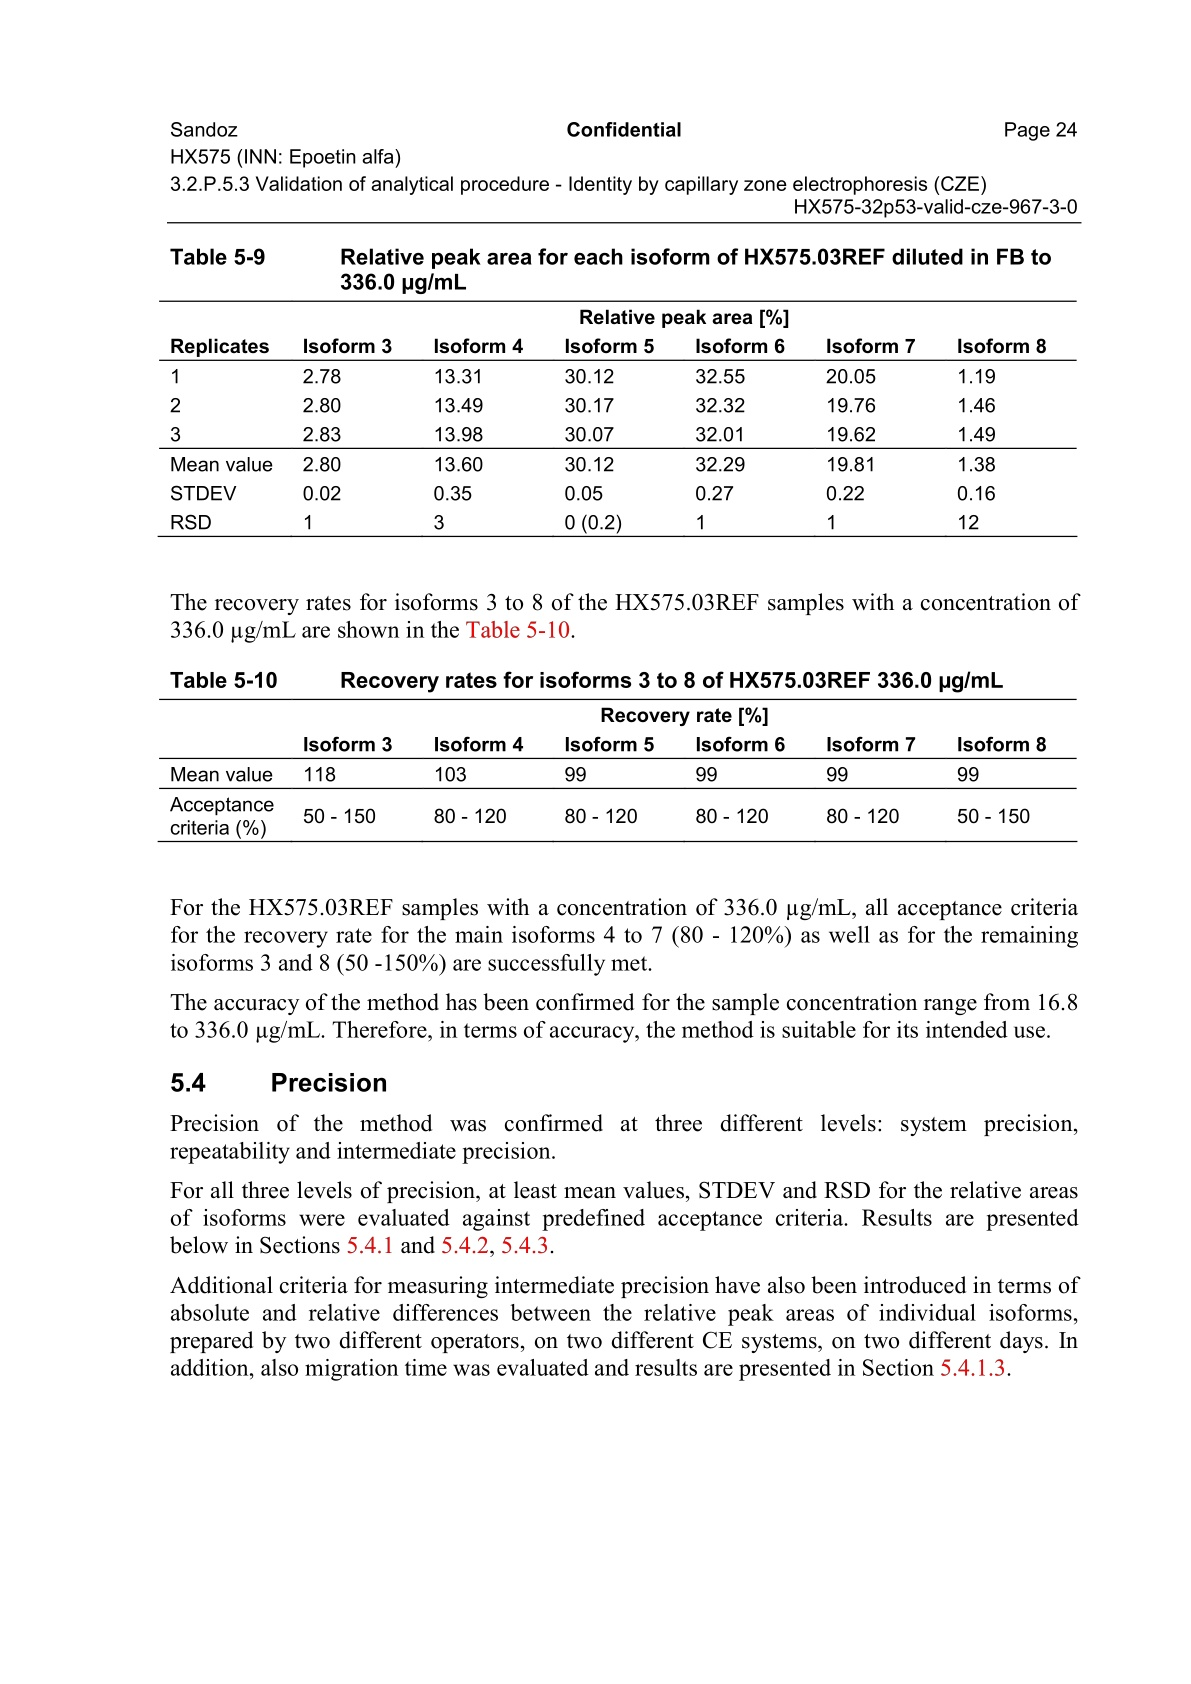partial_lined: (159, 299, 1078, 539), (157, 698, 1078, 843)
